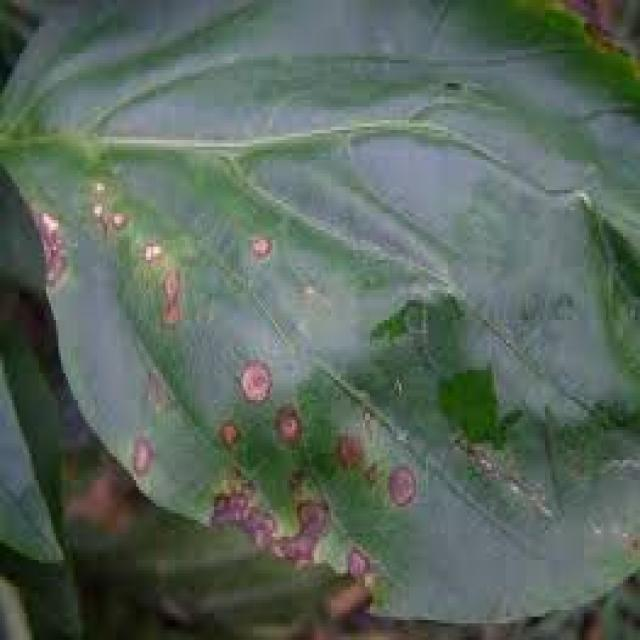bercak_daun: (13, 81, 640, 613)
